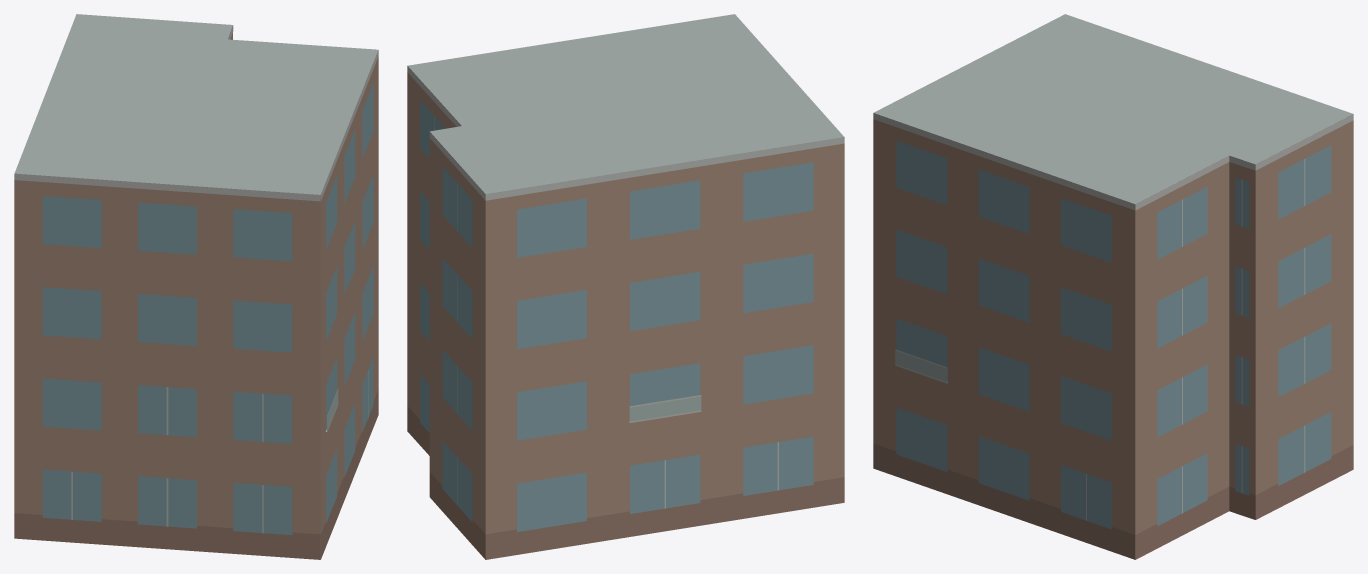
The model's file is survey-upis-32561106.glb.
3 views of the same model, side by side, from view 1: azimuth 30°, elevation 25°; view 2: azimuth 150°, elevation 25°; view 3: azimuth 270°, elevation 25° (orthographic). The views are drawn at different scales.
Parts seen in each view (by area): view 1: survey-upis-32561106.tmp; view 2: survey-upis-32561106.tmp; view 3: survey-upis-32561106.tmp.
Part boxes in pixels (x1=…): survey-upis-32561106.tmp: x1=14, y1=14, x2=378, y2=559; survey-upis-32561106.tmp: x1=407, y1=14, x2=844, y2=559; survey-upis-32561106.tmp: x1=873, y1=14, x2=1353, y2=559.
Bounding box in the file's own units: 15.85 × 13.8 × 16.9.
